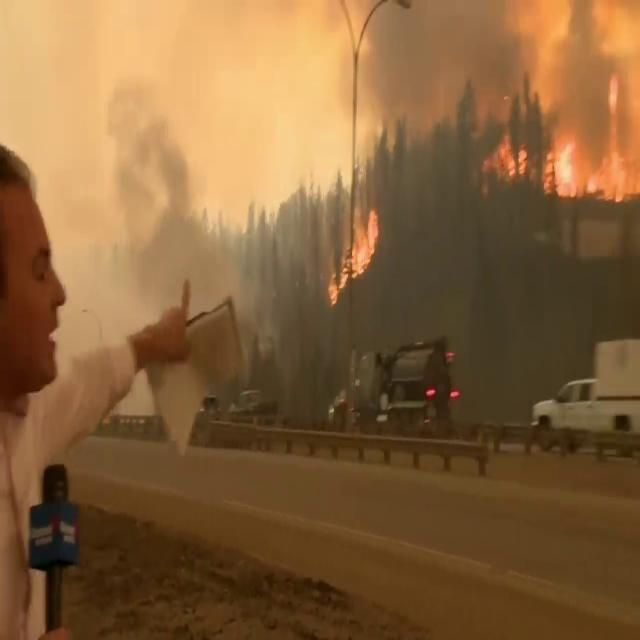Fire: (326, 190, 384, 304), (543, 140, 640, 207)
Smoke: (368, 0, 586, 318), (76, 43, 276, 343), (603, 0, 640, 208)
